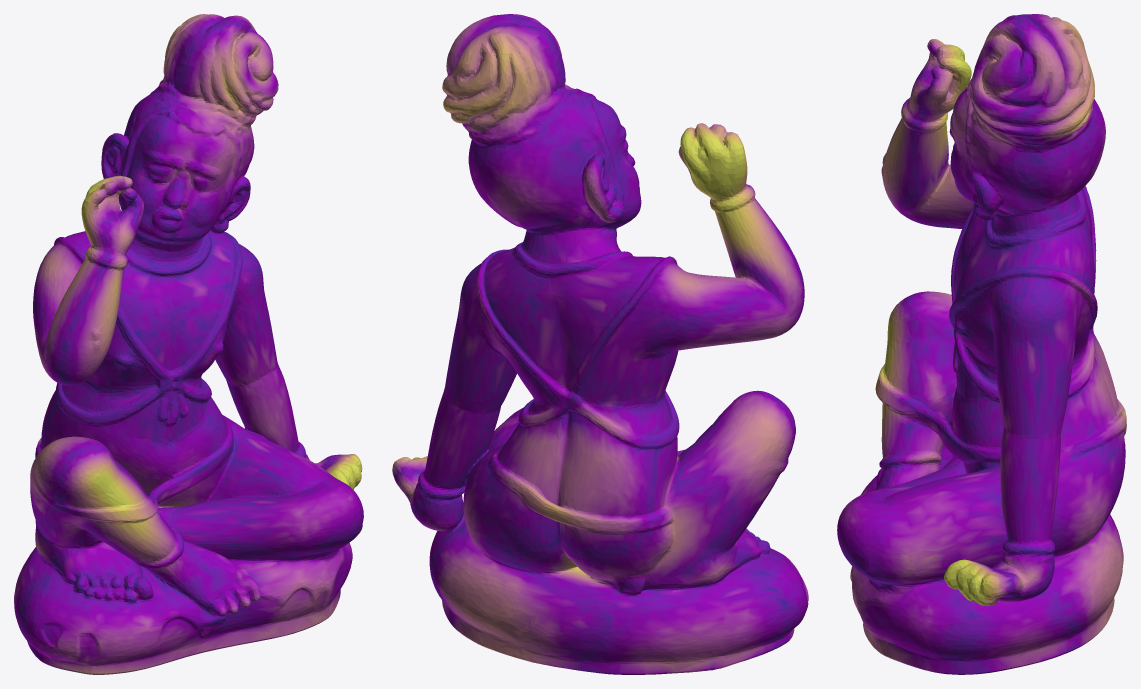
Rendered from iter_12.glb.
The picture shows the model from 3 angles, left to right: view 1: azimuth 30°, elevation 25°; view 2: azimuth 150°, elevation 25°; view 3: azimuth 270°, elevation 25°; orthographic projection. The views are drawn at different scales.
Visible parts, largest first — view 1: textured_mesh; view 2: textured_mesh; view 3: textured_mesh.
Boxes of the visible parts, x1,y1,x2,y2 form: textured_mesh: (14,14,363,674); textured_mesh: (392,14,808,674); textured_mesh: (837,14,1126,674).
Bounding box in the file's own units: 1.33 × 1.99 × 0.8532.
